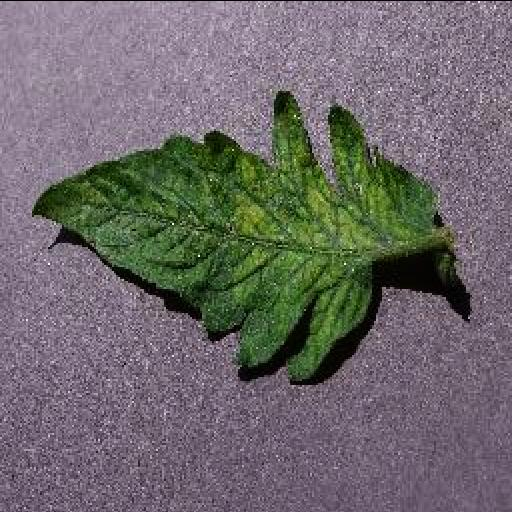Mosaic Virus: (28, 87, 442, 385)
